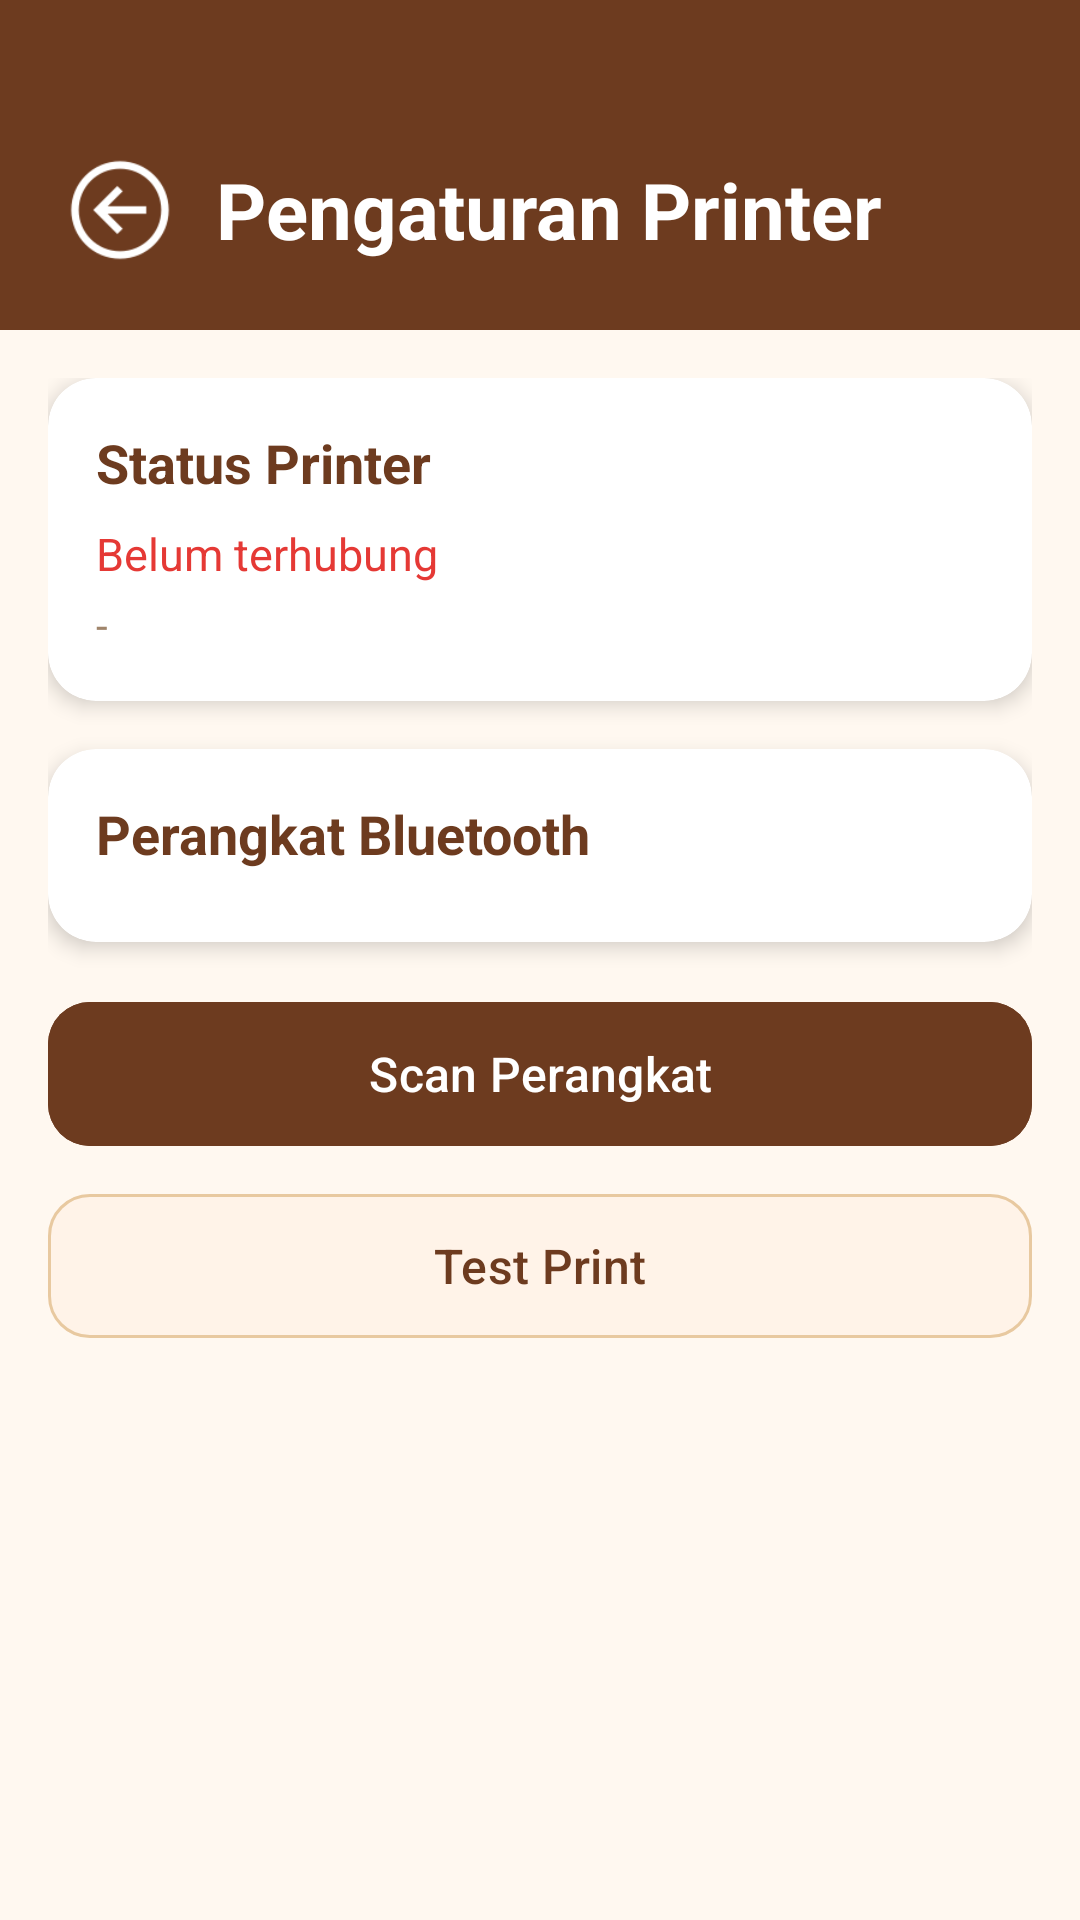

Icon click points for this 1080*1920 phone screenshot, format [x,y]:
Kembali: [120,210]
